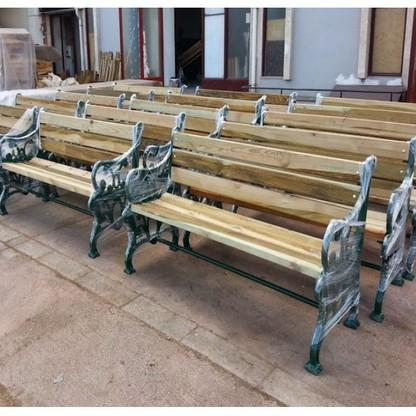obstacle: (161, 124, 375, 331), (17, 99, 139, 251)
